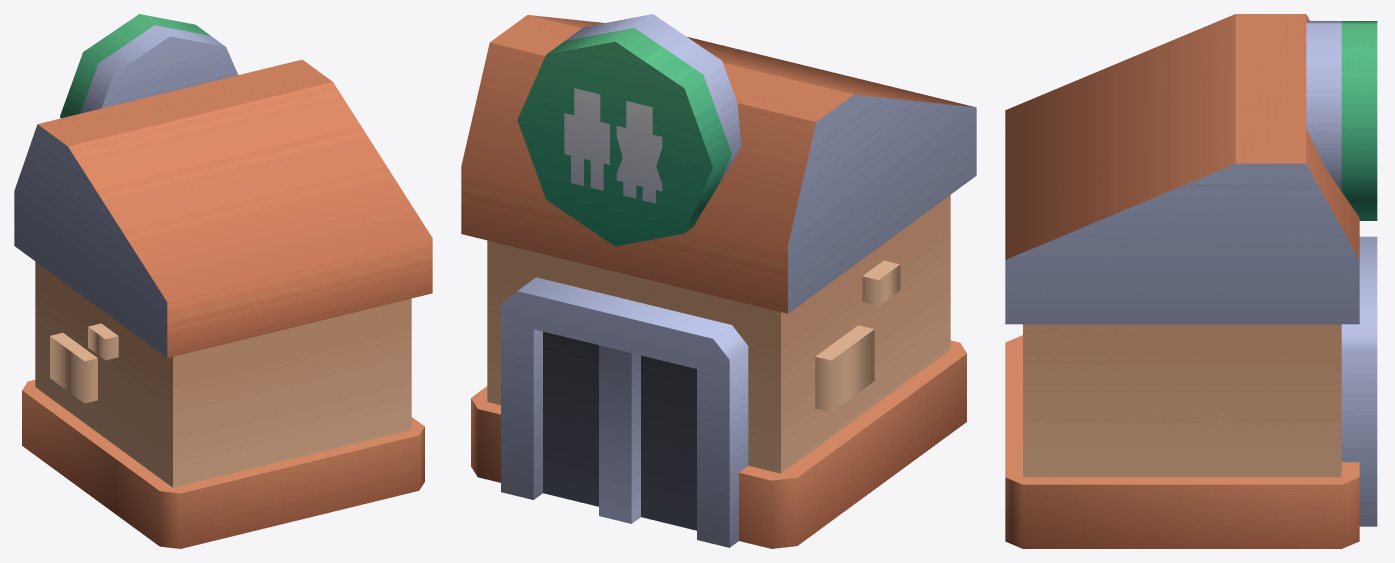
Rendered from stall-toilets.glb.
3 renders of one model, left to right at view 1: azimuth 30°, elevation 25°; view 2: azimuth 150°, elevation 25°; view 3: azimuth 270°, elevation 25°, orthographic. The views are drawn at different scales.
Parts seen in each view (by area): view 1: stall-toilets; view 2: stall-toilets; view 3: stall-toilets.
Part boxes in pixels (x1,y1,x2,y2): stall-toilets: (14,14,432,548); stall-toilets: (461,14,976,548); stall-toilets: (1005,14,1377,548).
Bounding box in the file's own units: 3 × 4.2 × 3.18.
Materials: 1 (1 with a texture image).
